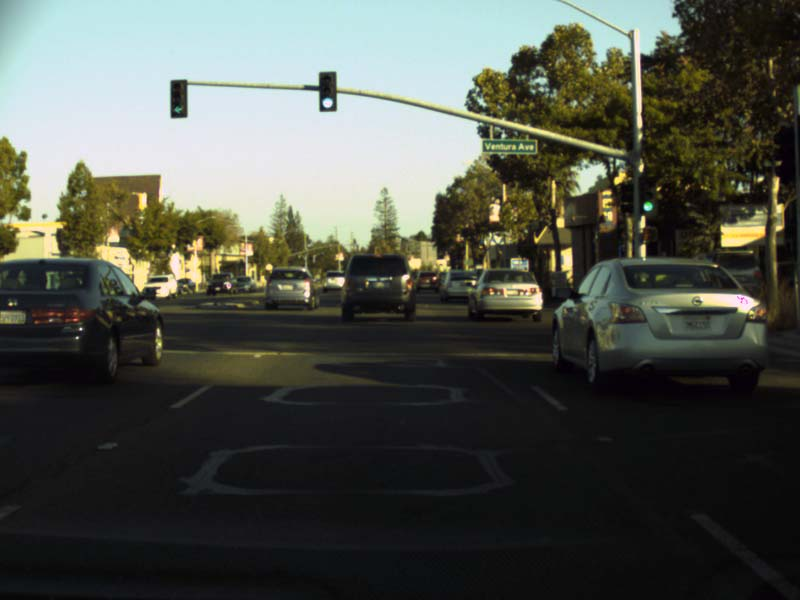Green: (638, 177, 657, 215), (319, 72, 336, 111), (170, 80, 186, 117)
